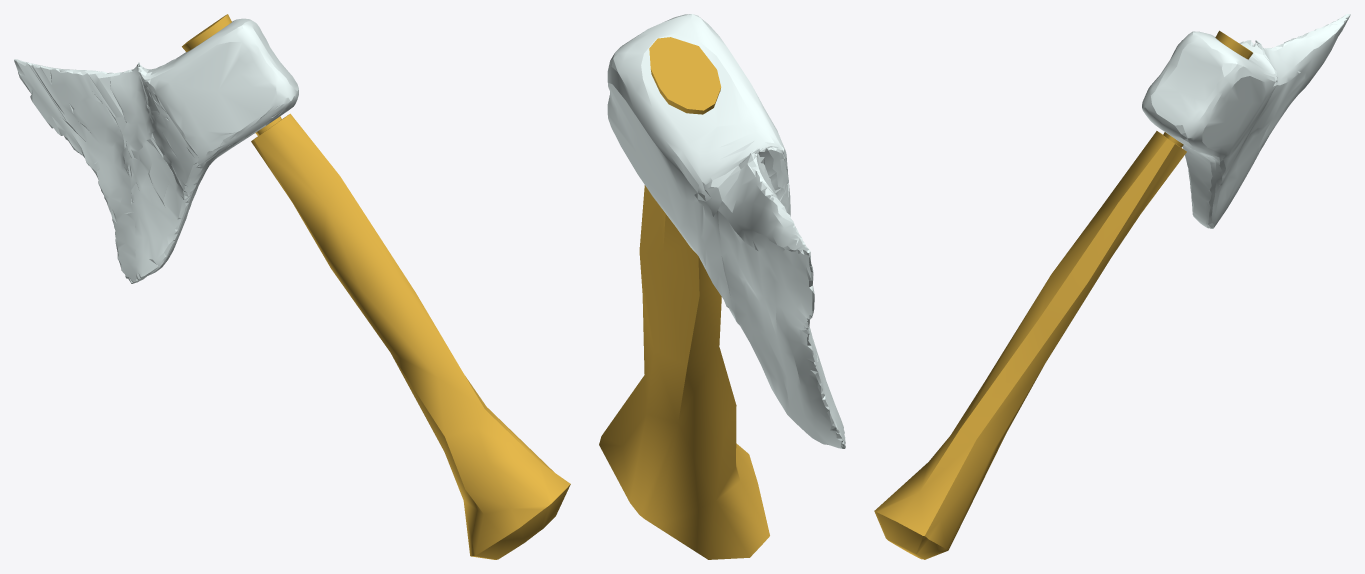
The model's file is axe-iron-1.glb.
3 views of the same model, side by side, from view 1: azimuth 30°, elevation 25°; view 2: azimuth 150°, elevation 25°; view 3: azimuth 270°, elevation 25° (orthographic). The views are drawn at different scales.
Visible parts, largest first — view 1: iron-axe-head, iron-axe; view 2: iron-axe-head, iron-axe; view 3: iron-axe, iron-axe-head.
Boxes of the visible parts, <box> form: iron-axe-head: <box>14,18,298,283</box>; iron-axe: <box>182,14,570,559</box>; iron-axe-head: <box>607,14,845,448</box>; iron-axe: <box>599,37,769,559</box>; iron-axe: <box>874,30,1252,559</box>; iron-axe-head: <box>1142,14,1350,228</box>.
Size of the model in its own units: 0.6637 by 0.8648 by 0.7982.
